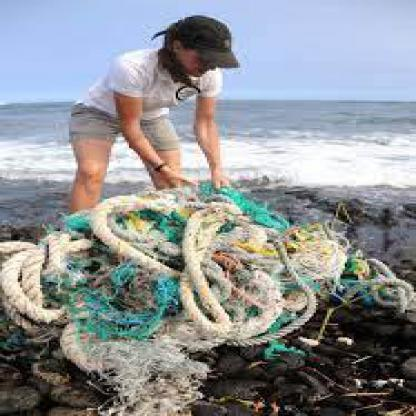Plastic: (2, 187, 344, 371)
